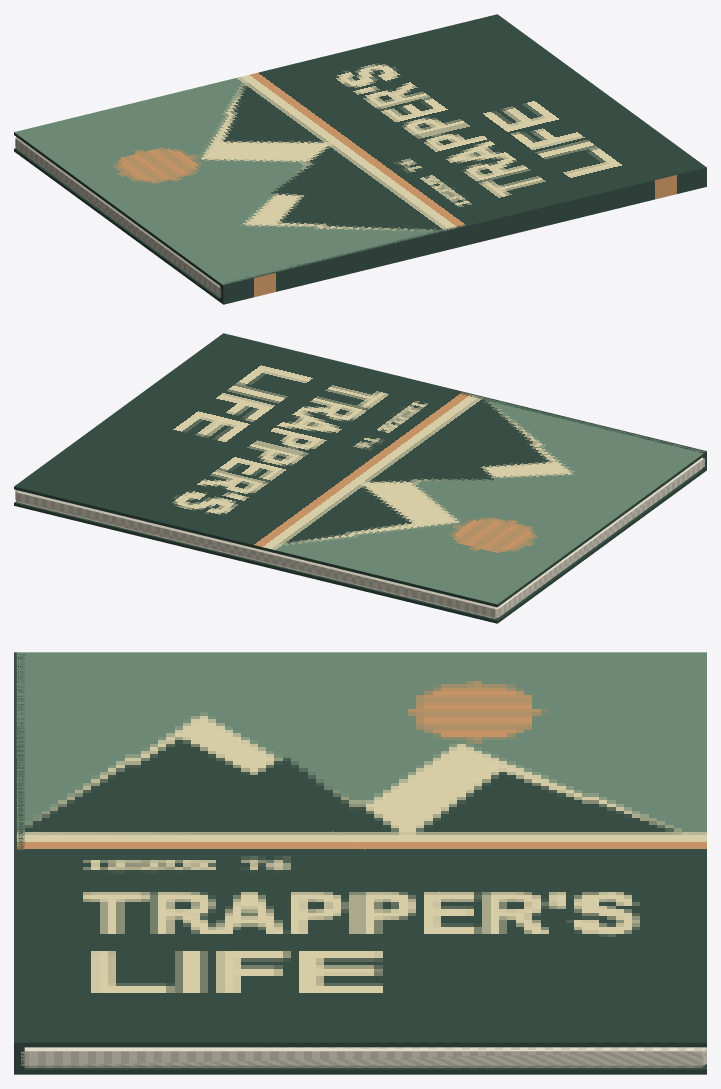
Rendered from mag_traps.glb.
3 views of the same model, one above another, from view 1: azimuth 30°, elevation 25°; view 2: azimuth 150°, elevation 25°; view 3: azimuth 270°, elevation 25° (orthographic). The views are drawn at different scales.
Parts seen in each view (by area): view 1: block_front, block_spine, block_pages, block_back; view 2: block_front, block_pages, block_back, block_spine; view 3: block_front, block_pages, block_back, block_spine.
Part boxes in pixels (x1,y1,x2,y2): block_front: (14, 14, 705, 287); block_spine: (220, 167, 706, 304); block_pages: (15, 137, 221, 297); block_back: (14, 148, 222, 303); block_front: (14, 334, 706, 607); block_pages: (15, 457, 704, 619); block_back: (14, 468, 706, 623); block_spine: (220, 333, 706, 470); block_front: (16, 652, 706, 1047); block_pages: (21, 1047, 706, 1067); block_back: (16, 1064, 706, 1074); block_spine: (14, 652, 24, 1074).
Bounding box in the file's own units: 0.2154 × 0.00821 × 0.1617.
Materials: 1 (1 with a texture image).
